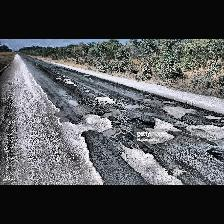pothole: (119, 146, 185, 184), (77, 113, 113, 133), (160, 104, 196, 118), (150, 117, 176, 130), (95, 96, 115, 104), (200, 114, 222, 120), (64, 81, 74, 85), (55, 77, 61, 79)
